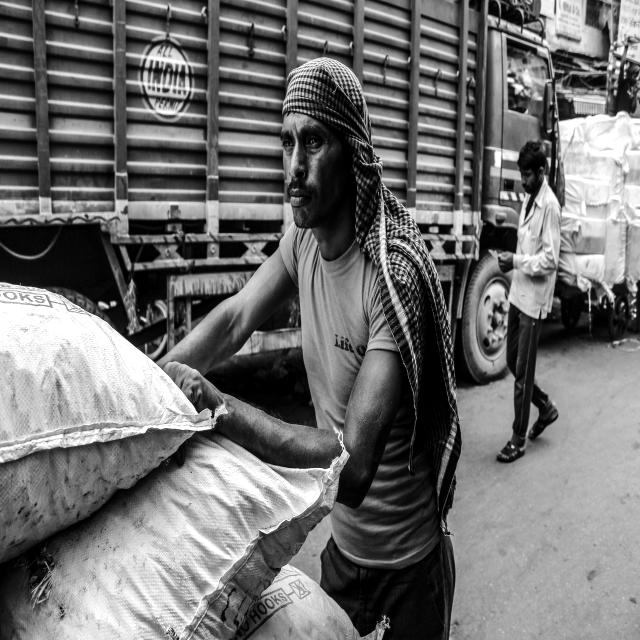No-Vest: (300, 233, 444, 556), (514, 187, 564, 315)
